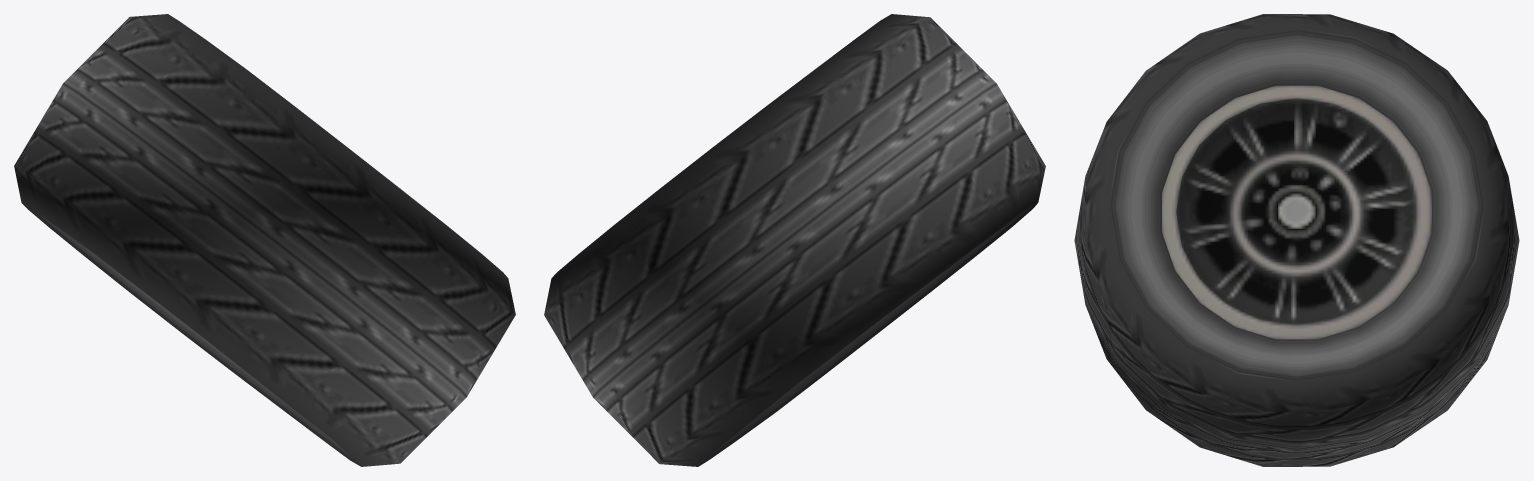
File: icon1.ico.obj
The picture shows the model from 3 angles, left to right: view 1: azimuth 30°, elevation 25°; view 2: azimuth 150°, elevation 25°; view 3: azimuth 270°, elevation 25°; orthographic projection. The views are drawn at different scales.
Size of the model in its own units: 3.81 by 3.81 by 4.09.
Materials: 1 (1 with a texture image).
